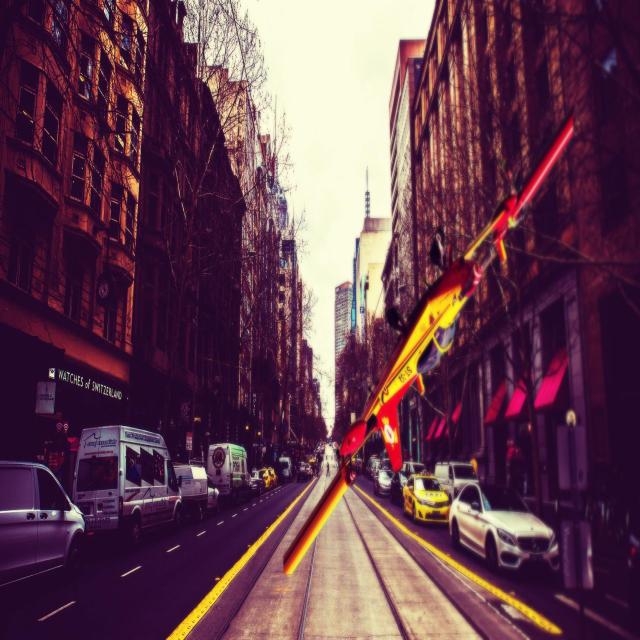airplane: (282, 106, 574, 575)
